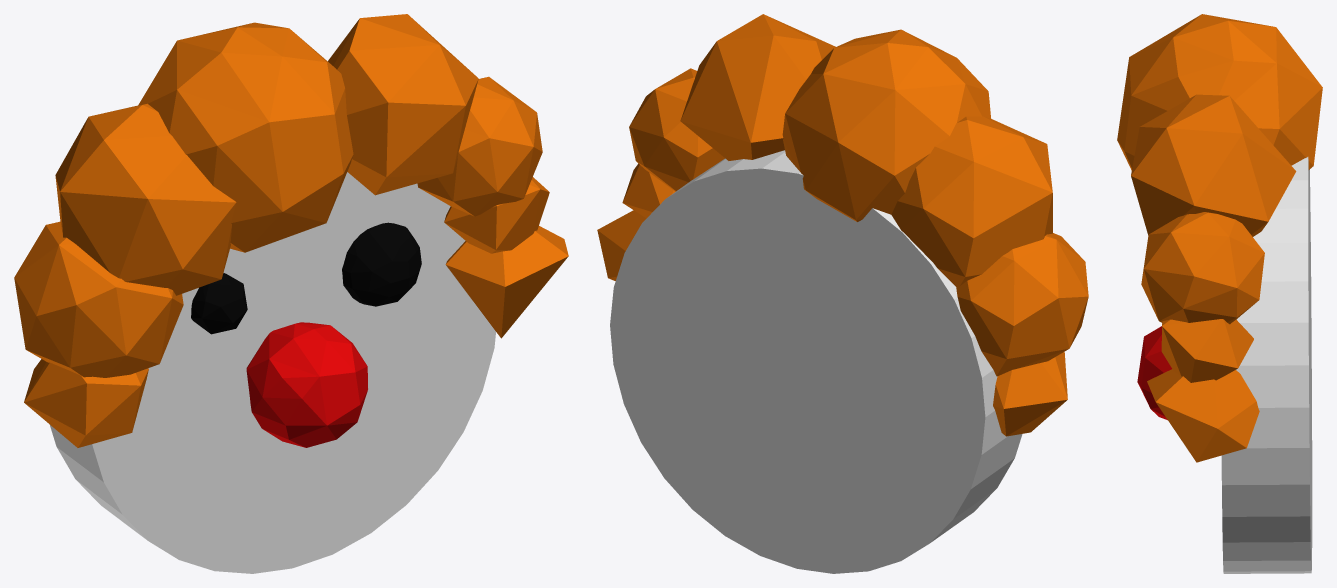
Rendered from Clown.fbx.
3 renders of one model, left to right at view 1: azimuth 30°, elevation 25°; view 2: azimuth 150°, elevation 25°; view 3: azimuth 270°, elevation 25°, orthographic. The views are drawn at different scales.
Parts seen in each view (by area): view 1: Hair, Skin, Nose, Eye Right, Eye Left; view 2: Skin, Hair; view 3: Hair, Skin, Nose.
Part boxes in pixels (x1,y1,x2,y2): Hair: [14, 14, 568, 447]; Skin: [50, 172, 495, 573]; Nose: [246, 322, 367, 447]; Eye Right: [342, 222, 421, 306]; Eye Left: [191, 273, 247, 334]; Skin: [610, 150, 1022, 573]; Hair: [597, 14, 1088, 436]; Hair: [1117, 14, 1322, 462]; Skin: [1221, 157, 1312, 573]; Nose: [1137, 326, 1171, 420].
Size of the model in its own units: 260 by 258 by 94.47.
